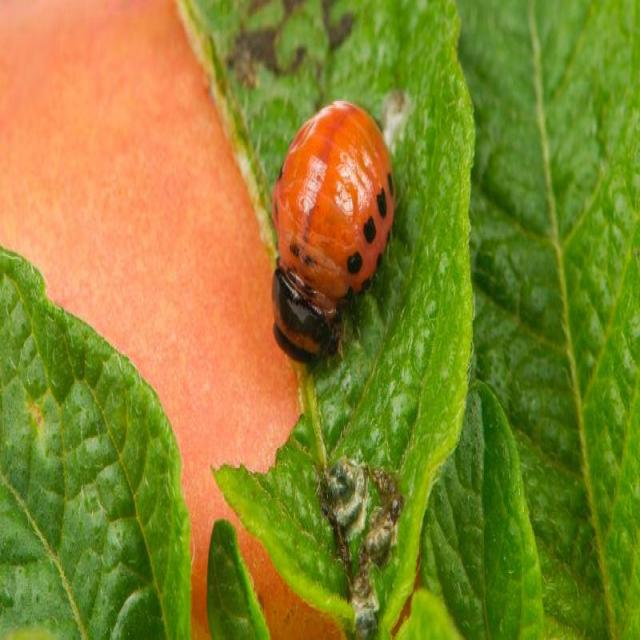ShuCaiHuaBanChong-Larva-: (252, 77, 412, 400)
